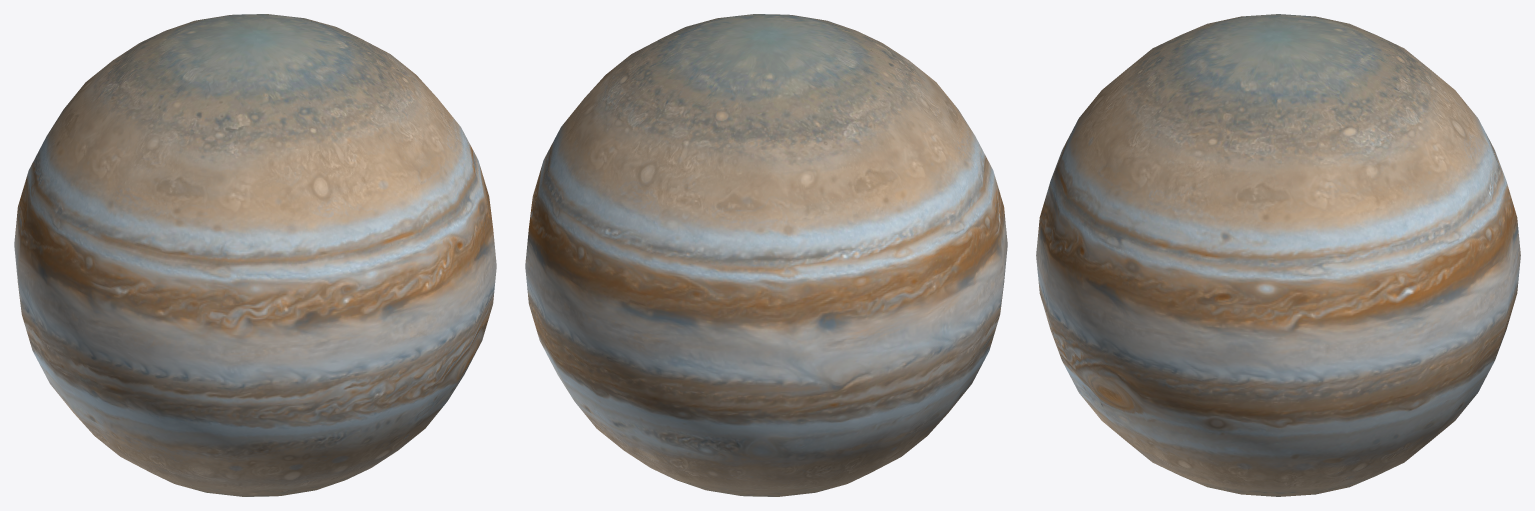
Rendered from jupiter.glb.
The picture shows the model from 3 angles, left to right: view 1: azimuth 30°, elevation 25°; view 2: azimuth 150°, elevation 25°; view 3: azimuth 270°, elevation 25°; orthographic projection.
Visible parts, largest first — view 1: Jupiter; view 2: Jupiter; view 3: Jupiter.
Boxes of the visible parts, x1=… form: Jupiter: x1=14, y1=14, x2=496, y2=496; Jupiter: x1=525, y1=14, x2=1007, y2=496; Jupiter: x1=1036, y1=14, x2=1520, y2=496.
Bounding box in the file's own units: 2 × 2 × 2.
Materials: 1 (1 with a texture image).
